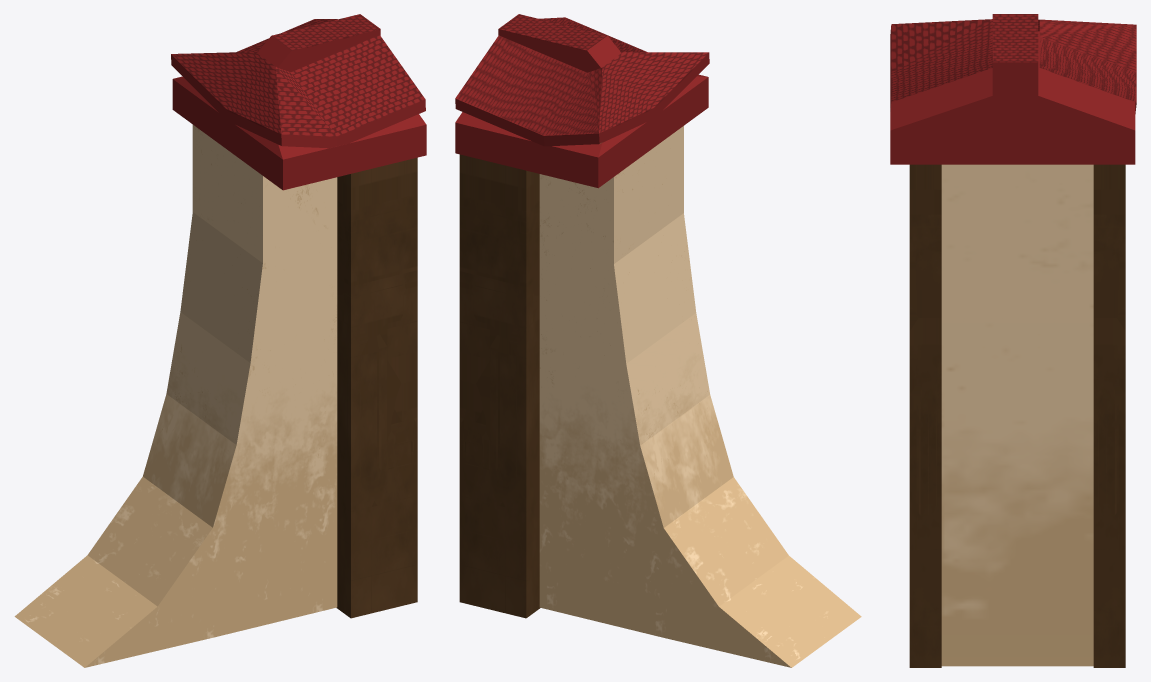
File: EndWall.fbx
The picture shows the model from 3 angles, left to right: view 1: azimuth 30°, elevation 25°; view 2: azimuth 150°, elevation 25°; view 3: azimuth 270°, elevation 25°; orthographic projection. The views are drawn at different scales.
Parts seen in each view (by area): view 1: EndWall, WallDecPillar018; view 2: EndWall, WallDecPillar017; view 3: EndWall, WallDecPillar017, WallDecPillar018.
Boxes of the visible parts, x1,y1,x2,y2 form: EndWall: (14, 14, 426, 667); WallDecPillar018: (336, 157, 417, 618); EndWall: (455, 14, 861, 667); WallDecPillar017: (459, 154, 540, 618); EndWall: (890, 14, 1136, 666); WallDecPillar017: (1093, 164, 1125, 667); WallDecPillar018: (909, 164, 941, 667).
Size of the model in its own units: 21.71 by 35.39 by 13.04.
Materials: 2 (2 with a texture image).
